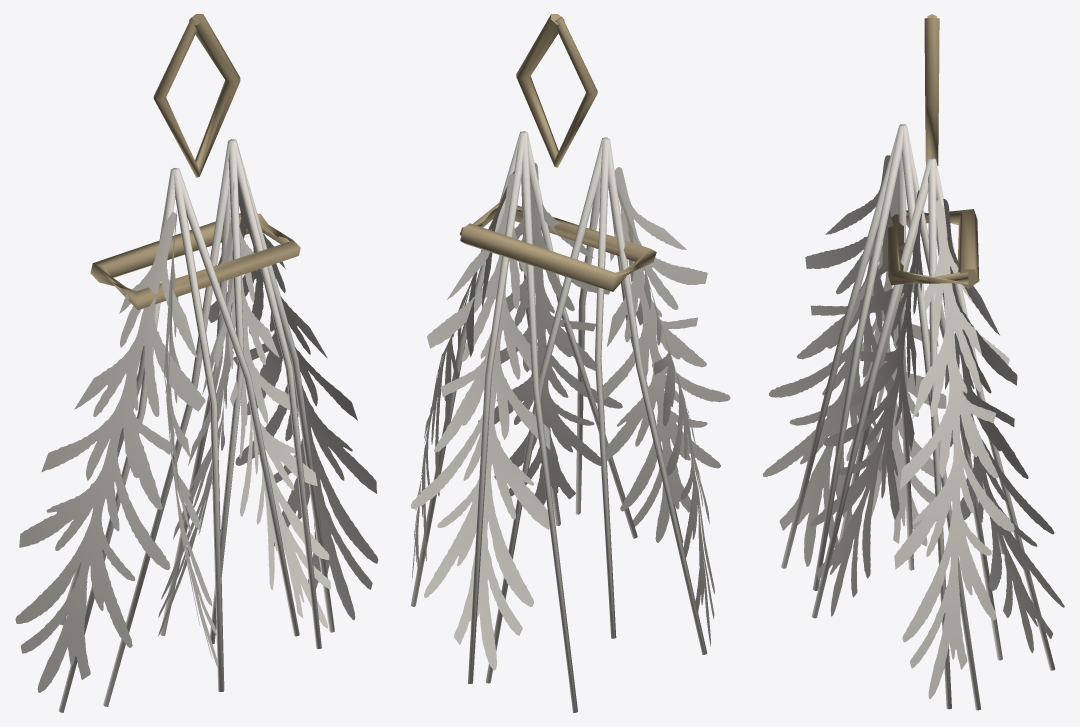
Rendered from CM_BotanicalPlanterKit01_Hanging_Rosemary_Reduced.fbx.
The picture shows the model from 3 angles, left to right: view 1: azimuth 30°, elevation 25°; view 2: azimuth 150°, elevation 25°; view 3: azimuth 270°, elevation 25°; orthographic projection. The views are drawn at different scales.
Parts seen in each view (by area): view 1: CM_BotanicalPlanterKit01_Hanging_Rosemary_FoliageDry, CM_BotanicalPlanterKit01_Hanging_Rosemary_Twine; view 2: CM_BotanicalPlanterKit01_Hanging_Rosemary_FoliageDry, CM_BotanicalPlanterKit01_Hanging_Rosemary_Twine; view 3: CM_BotanicalPlanterKit01_Hanging_Rosemary_FoliageDry, CM_BotanicalPlanterKit01_Hanging_Rosemary_Twine.
Part boxes in pixels (x1,y1,x2,y2): CM_BotanicalPlanterKit01_Hanging_Rosemary_FoliageDry: (15,139,378,712); CM_BotanicalPlanterKit01_Hanging_Rosemary_Twine: (90,14,300,309); CM_BotanicalPlanterKit01_Hanging_Rosemary_FoliageDry: (410,131,730,712); CM_BotanicalPlanterKit01_Hanging_Rosemary_Twine: (459,14,656,291); CM_BotanicalPlanterKit01_Hanging_Rosemary_FoliageDry: (763,124,1064,710); CM_BotanicalPlanterKit01_Hanging_Rosemary_Twine: (887,14,979,288).
Size of the model in its own units: 0.2599 by 0.5127 by 0.2106.
